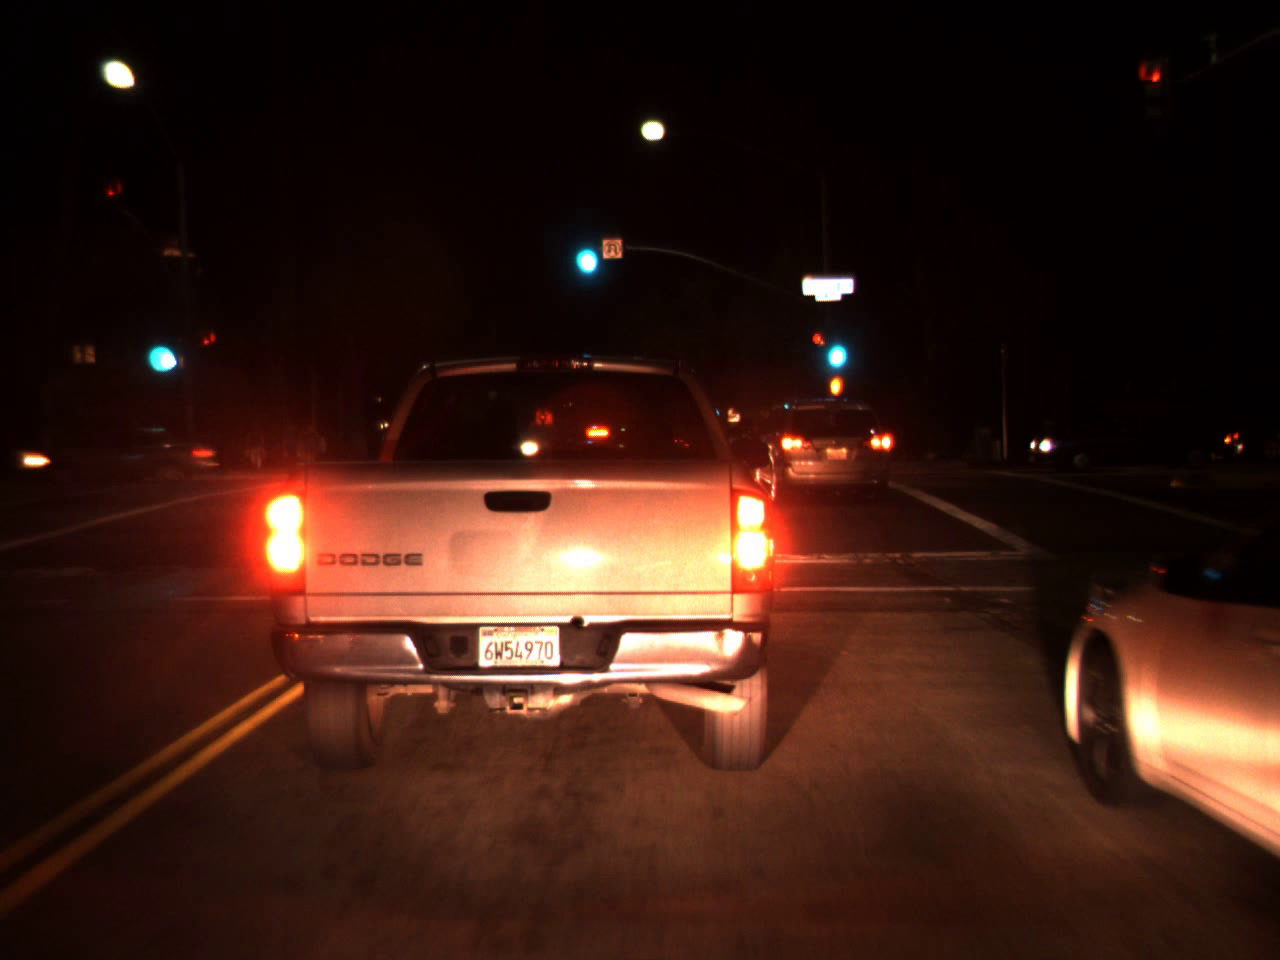go: (138, 313, 181, 382), (567, 217, 603, 283), (819, 314, 851, 377)
